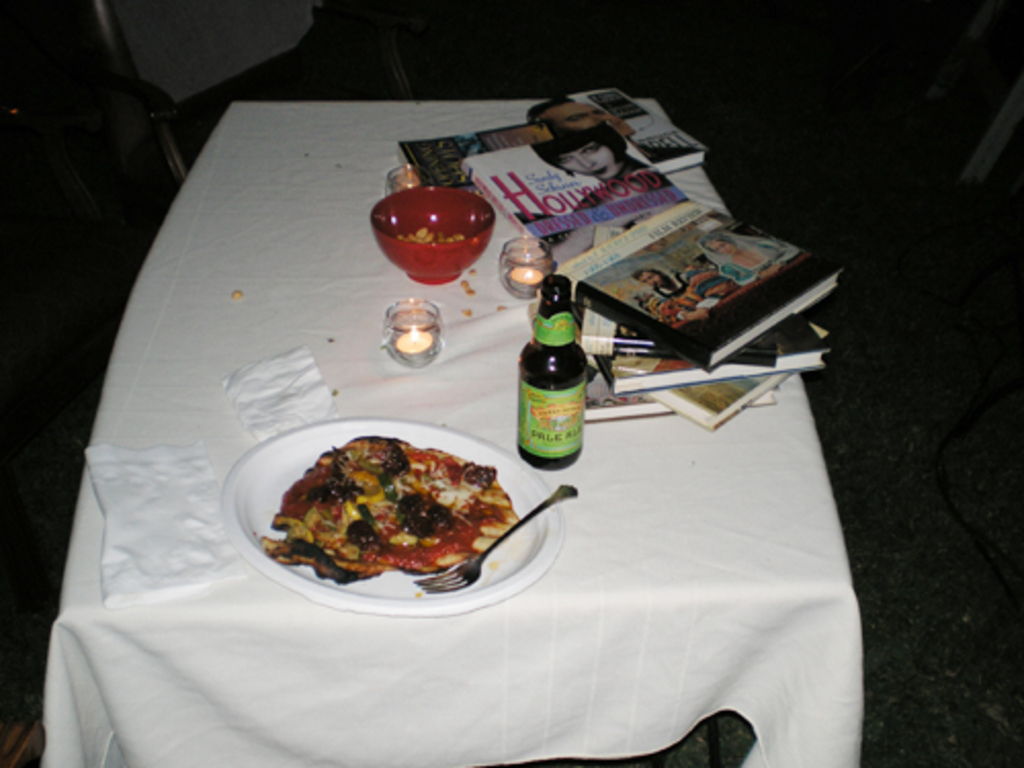Pizza: (260, 432, 522, 583)
